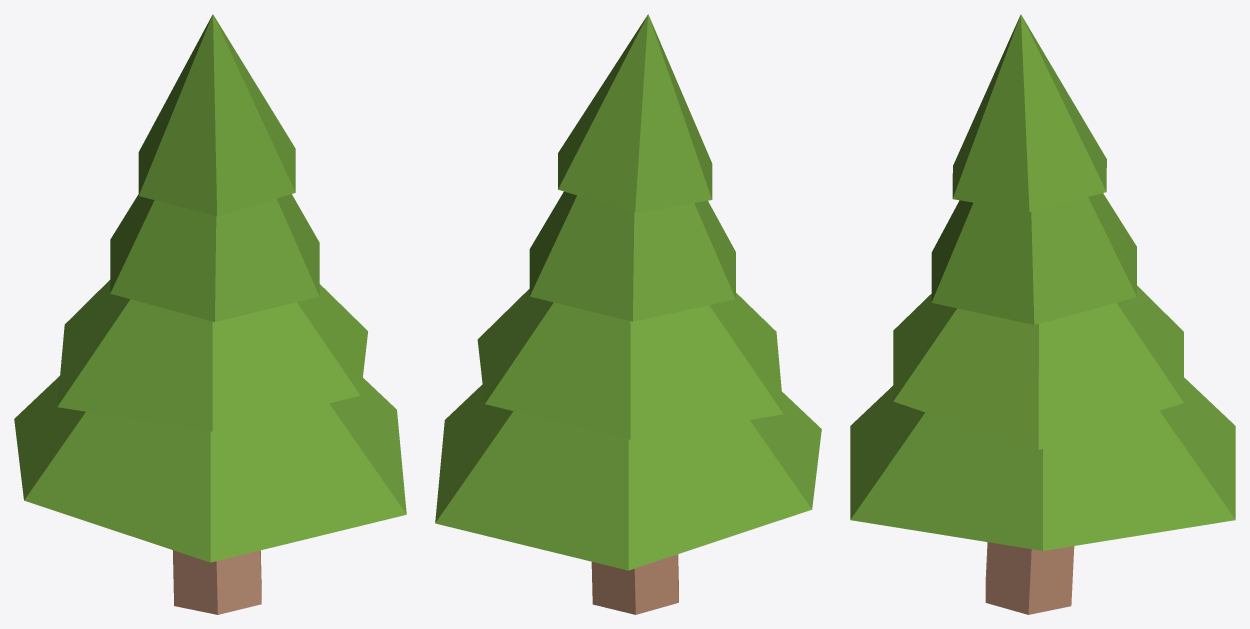
File: Creamy_Cone_Tree_2.fbx
The picture shows the model from 3 angles, left to right: view 1: azimuth 30°, elevation 25°; view 2: azimuth 150°, elevation 25°; view 3: azimuth 270°, elevation 25°; orthographic projection.
Visible parts, largest first — view 1: mergedBlocks; view 2: mergedBlocks; view 3: mergedBlocks.
Boxes of the visible parts, x1=… form: mergedBlocks: x1=14, y1=14, x2=406, y2=614; mergedBlocks: x1=435, y1=14, x2=821, y2=614; mergedBlocks: x1=850, y1=14, x2=1235, y2=614.
Size of the model in its own units: 11.88 by 17.89 by 10.83.
